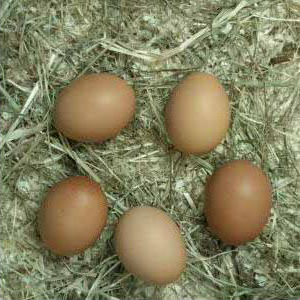egg: (37, 174, 111, 255), (114, 206, 188, 287), (53, 73, 136, 143), (205, 161, 272, 247), (165, 72, 232, 155)
